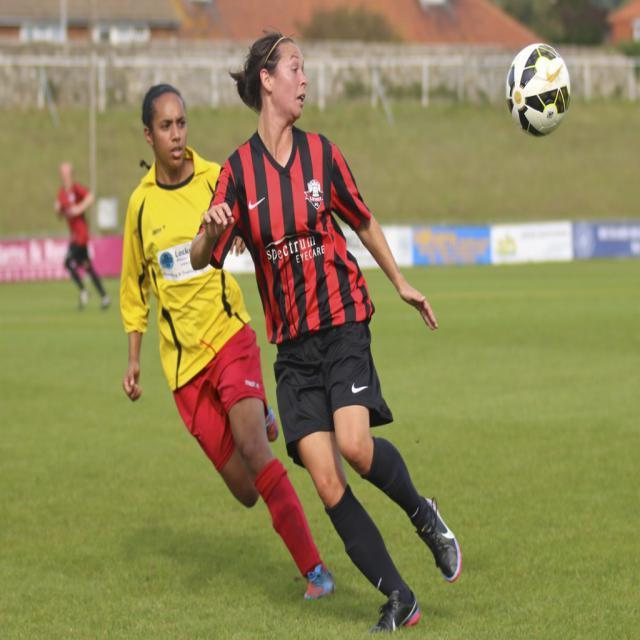football: (497, 28, 580, 150)
